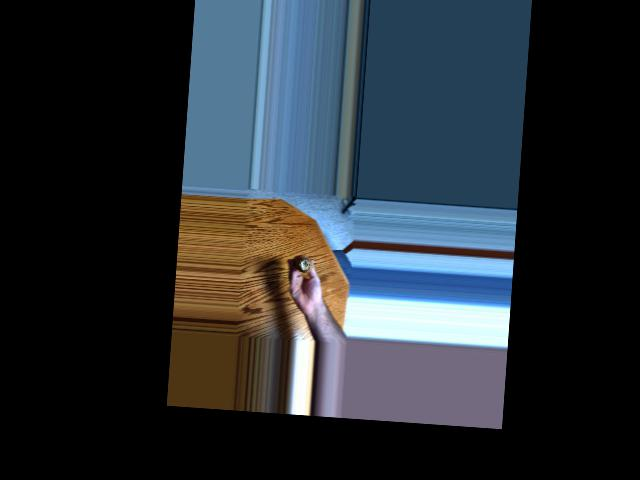sweet_potato: (297, 251, 314, 272)
